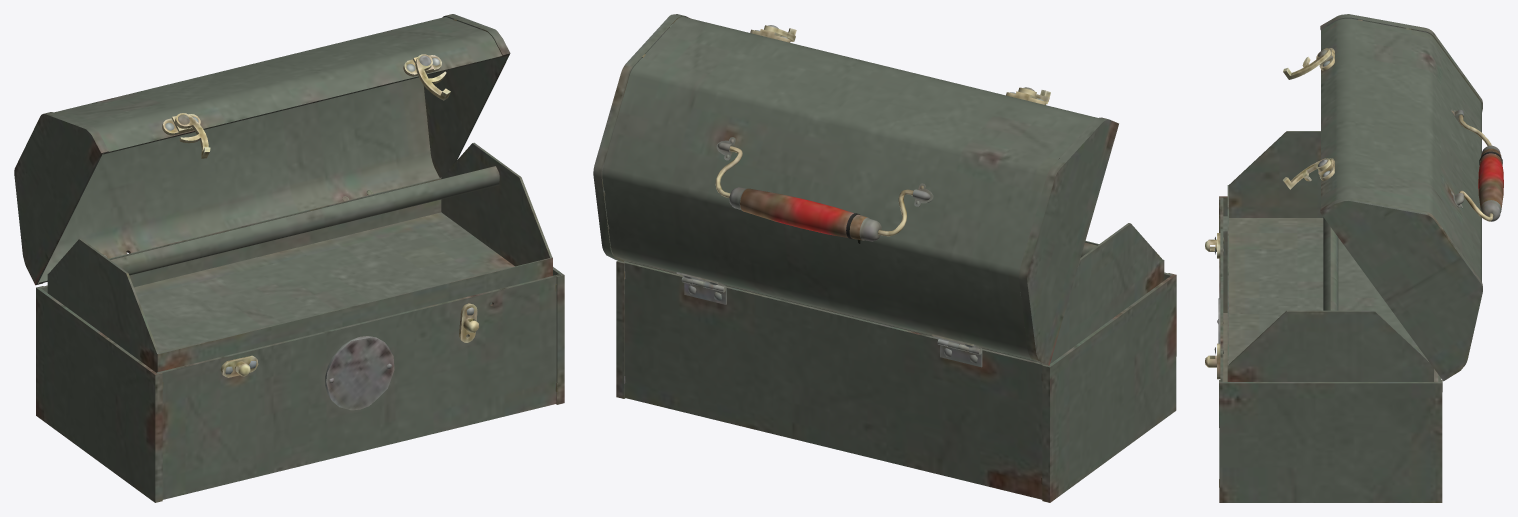
File: metal_toolbox.glb
The picture shows the model from 3 angles, left to right: view 1: azimuth 30°, elevation 25°; view 2: azimuth 150°, elevation 25°; view 3: azimuth 270°, elevation 25°; orthographic projection. The views are drawn at different scales.
Parts seen in each view (by area): view 1: Cylinder.015, metal_toolbox, metal_toolbox_tray, metal_toolbox_handle_latch_r, metal_toolbox_handle_latch_l; view 2: Cylinder.015, metal_toolbox, metal_toolbox_tray, metal_toolbox_handle; view 3: Cylinder.015, metal_toolbox_tray, metal_toolbox, metal_toolbox_handle, metal_toolbox_handle_latch_l, metal_toolbox_handle_latch_r.
Part boxes in pixels (x1,y1,x2,y2): Cylinder.015: (14,14,510,285); metal_toolbox: (36,267,564,502); metal_toolbox_tray: (47,142,552,372); metal_toolbox_handle_latch_r: (415,54,450,100); metal_toolbox_handle_latch_l: (175,113,210,158); Cylinder.015: (593,14,1118,365); metal_toolbox: (616,260,1176,502); metal_toolbox_tray: (629,223,1164,363); metal_toolbox_handle: (715,146,913,243); Cylinder.015: (1318,14,1482,381); metal_toolbox_tray: (1227,131,1433,381); metal_toolbox: (1205,196,1442,502); metal_toolbox_handle: (1458,114,1503,221); metal_toolbox_handle_latch_l: (1283,48,1331,79); metal_toolbox_handle_latch_r: (1283,158,1331,189).
Size of the model in its own units: 0.4 by 0.3047 by 0.2705.
Materials: 1 (1 with a texture image).
